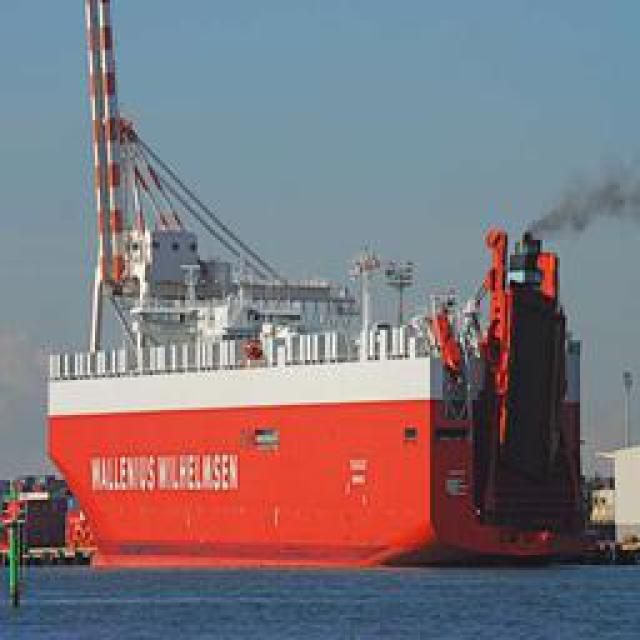Ship: (40, 61, 585, 564)
